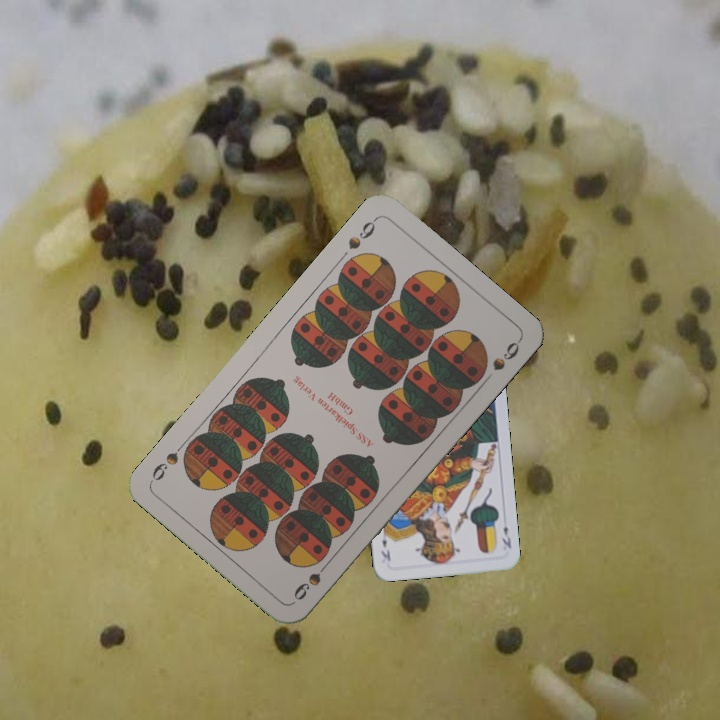EK: (498, 522, 514, 551)
S9: (289, 556, 334, 604), (344, 214, 380, 253)
